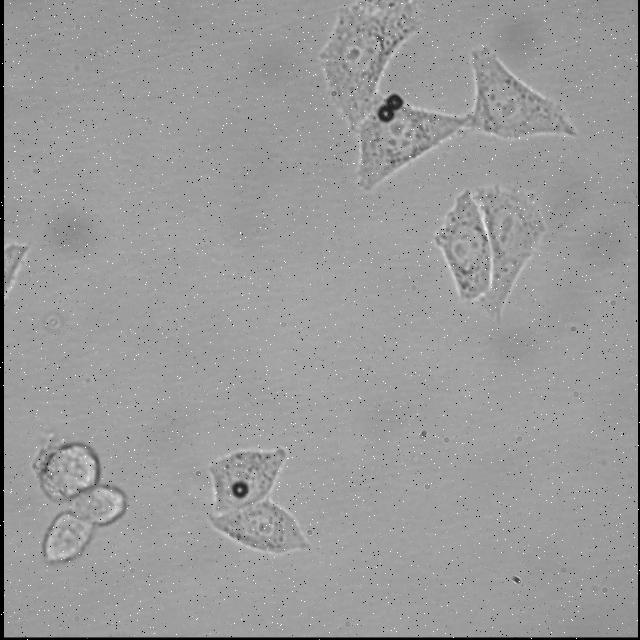microbeads: (226, 481, 248, 501), (376, 106, 394, 124), (384, 94, 402, 110)
